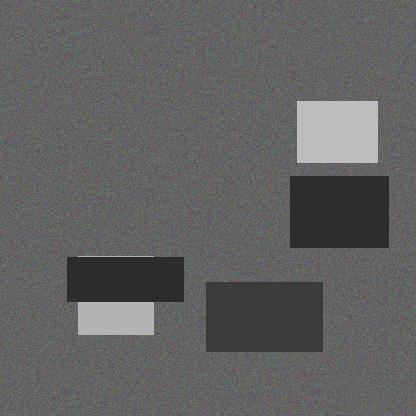empty: (84, 279, 167, 330), (290, 228, 365, 279)
occupied: (197, 297, 278, 355), (120, 194, 172, 249)
